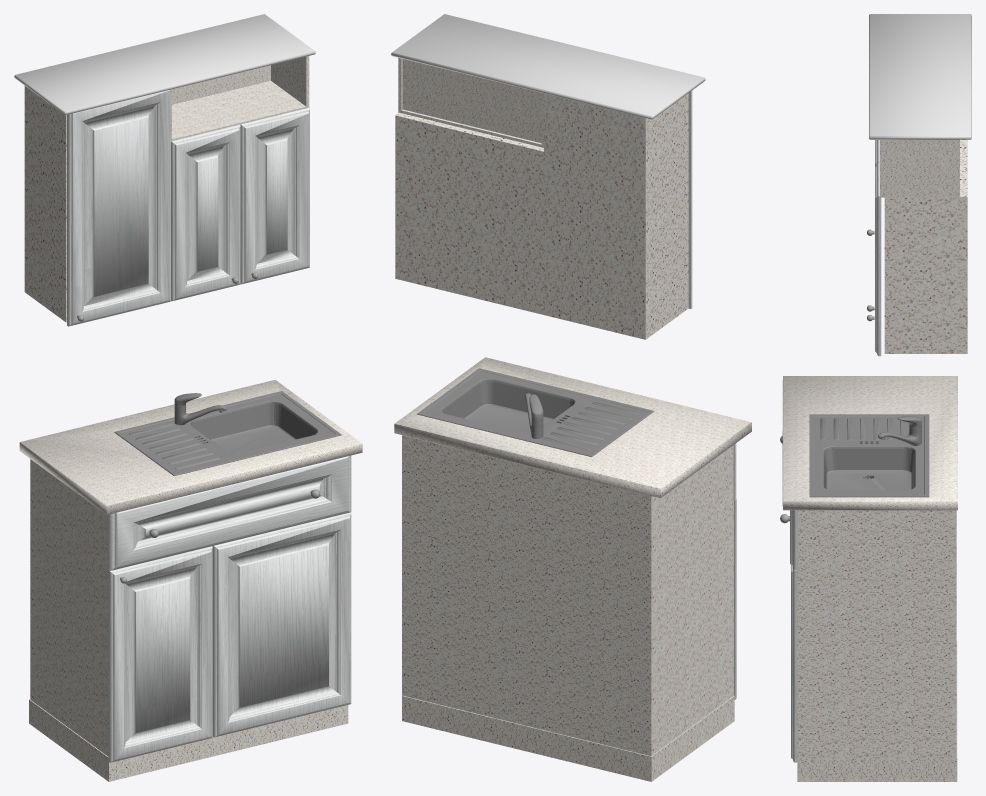
The model's file is advanceKitchen.fbx.
3 views of the same model, side by side, from view 1: azimuth 30°, elevation 25°; view 2: azimuth 150°, elevation 25°; view 3: azimuth 270°, elevation 25° (orthographic). The views are drawn at different scales.
Visible parts, largest first — view 1: Cylinder15991, Cylinder16000, Cylinder15992, Box03.001, ChamferBox01, Cylinder11, ChamferBox02, Cylinder16001, Cylinder16002, moyka, Куб, Box09 (+2 smaller); view 2: Box03.001, Куб, ChamferBox01, ChamferBox02, moyka, Box09, Box10, WRectangle01, Cylinder16000; view 3: Box03.001, ChamferBox01, Куб, ChamferBox02, moyka, WRectangle01, Box09, Cylinder15991, Cylinder16002, Cylinder11.
Part boxes in pixels (x1,y1,x2,y2): Cylinder15991: (212,512,351,737); Cylinder16000: (67,89,170,326); Cylinder15992: (108,546,212,762); Box03.001: (30,422,275,756); ChamferBox01: (19,380,362,514); Cylinder11: (108,455,351,570); ChamferBox02: (14,14,315,115); Cylinder16001: (171,124,240,301); Cylinder16002: (240,107,309,284); moyka: (114,391,341,476); Куб: (24,86,66,322); Box09: (29,699,348,781); Box03.001: (402,435,733,756); Куб: (395,93,688,339); ChamferBox01: (394,357,751,498); ChamferBox02: (391,14,705,119); moyka: (417,368,654,456); Box09: (402,695,734,781); Box10: (402,59,541,143); WRectangle01: (398,58,543,147); Cylinder16000: (688,90,692,308); Box03.001: (797,475,956,759); ChamferBox01: (782,376,957,510); Куб: (884,139,967,353); ChamferBox02: (869,14,971,139); moyka: (809,414,929,497); WRectangle01: (880,139,959,197); Box09: (797,641,957,781); Cylinder15991: (791,565,797,762); Cylinder16002: (875,162,881,356); Cylinder11: (790,510,798,570).
Size of the model in its own units: 111 by 268 by 71.97.
